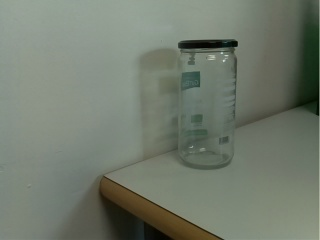pote cristal: (174, 36, 243, 172)
